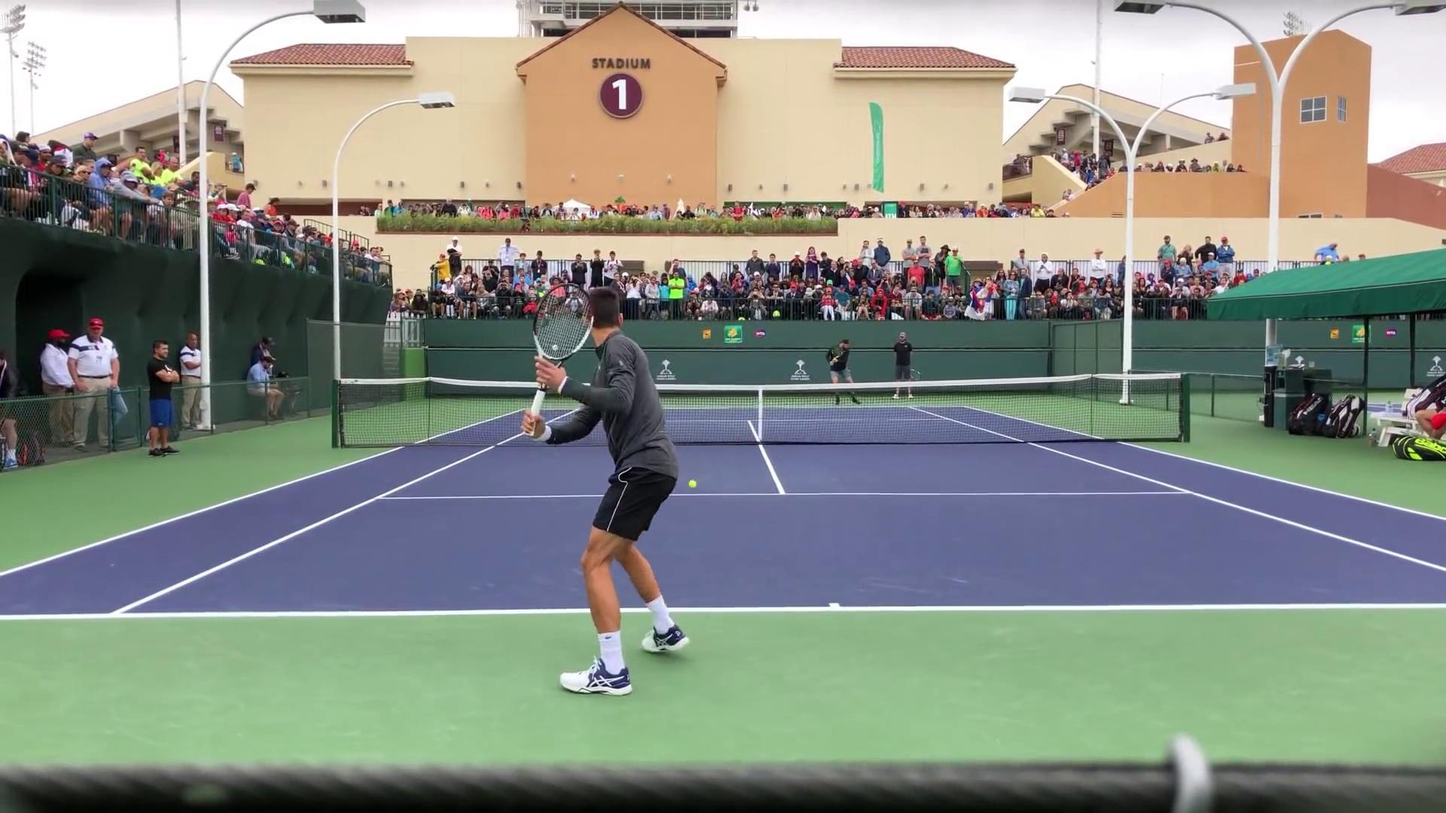ball: (687, 477, 699, 489)
